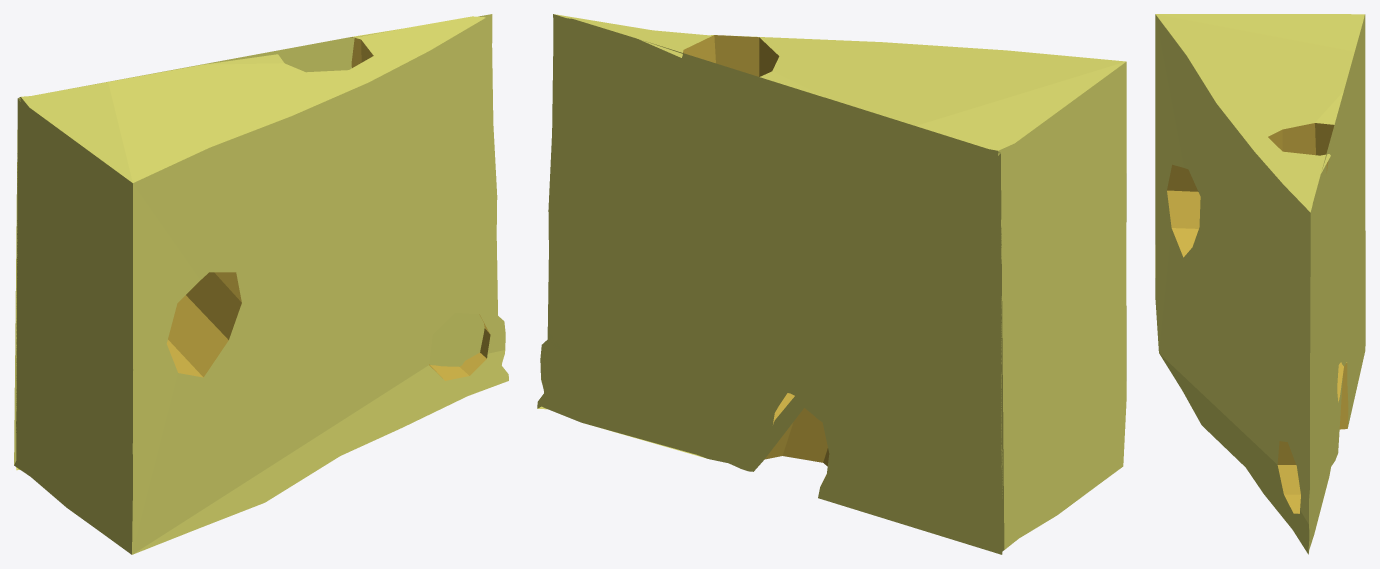
The model's file is CheeseCut2.fbx.
3 renders of one model, left to right at view 1: azimuth 30°, elevation 25°; view 2: azimuth 150°, elevation 25°; view 3: azimuth 270°, elevation 25°, orthographic. The views are drawn at different scales.
Visible parts, largest first — view 1: Cube; view 2: Cube; view 3: Cube.
Boxes of the visible parts, x1,y1,x2,y2 form: Cube: (14,14,508,554); Cube: (537,14,1126,554); Cube: (1155,14,1365,554).
Size of the model in its own units: 258 by 201 by 112.
